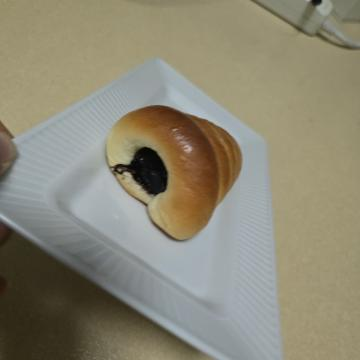cream horn: (92, 111, 256, 263)
